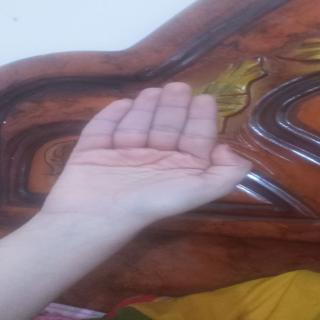SEEN: (59, 78, 256, 200)
